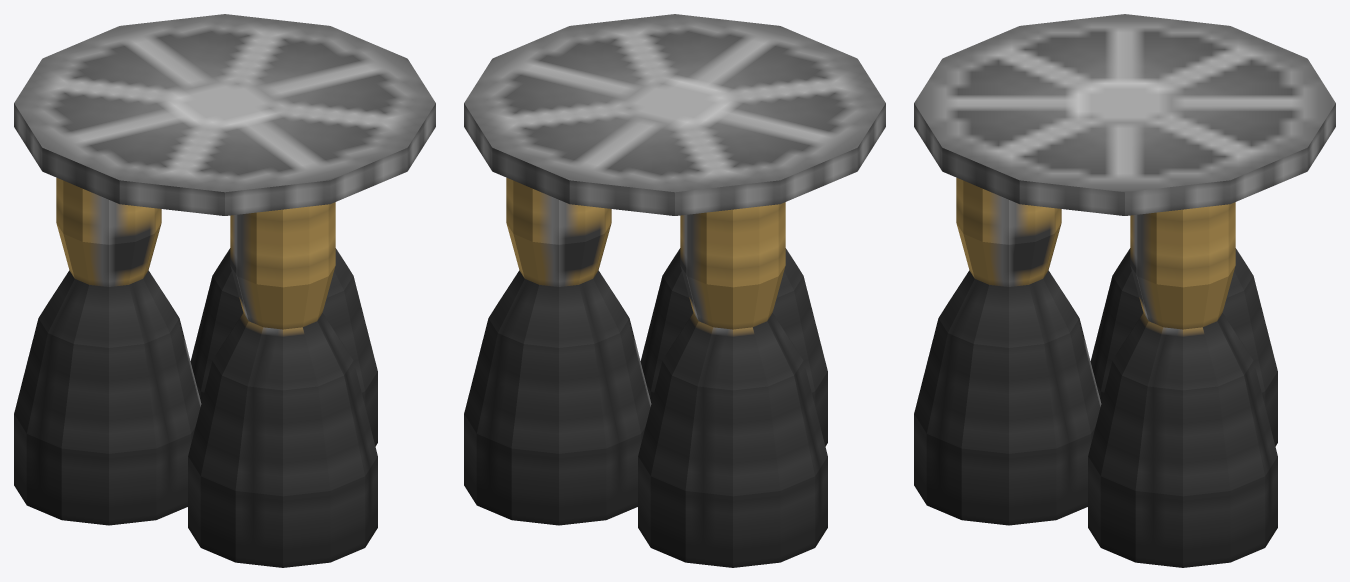
The model's file is mp_t_20_kerosene_triple.obj.
3 views of the same model, side by side, from view 1: azimuth 30°, elevation 25°; view 2: azimuth 150°, elevation 25°; view 3: azimuth 270°, elevation 25° (orthographic).
Visible parts, largest first — view 1: Circle; view 2: Circle; view 3: Circle.
Part boxes in pixels (x1,y1,x2,y2): Circle: (14,14,435,567); Circle: (464,14,885,567); Circle: (914,14,1335,567).
Size of the model in its own units: 2 by 2 by 2.
